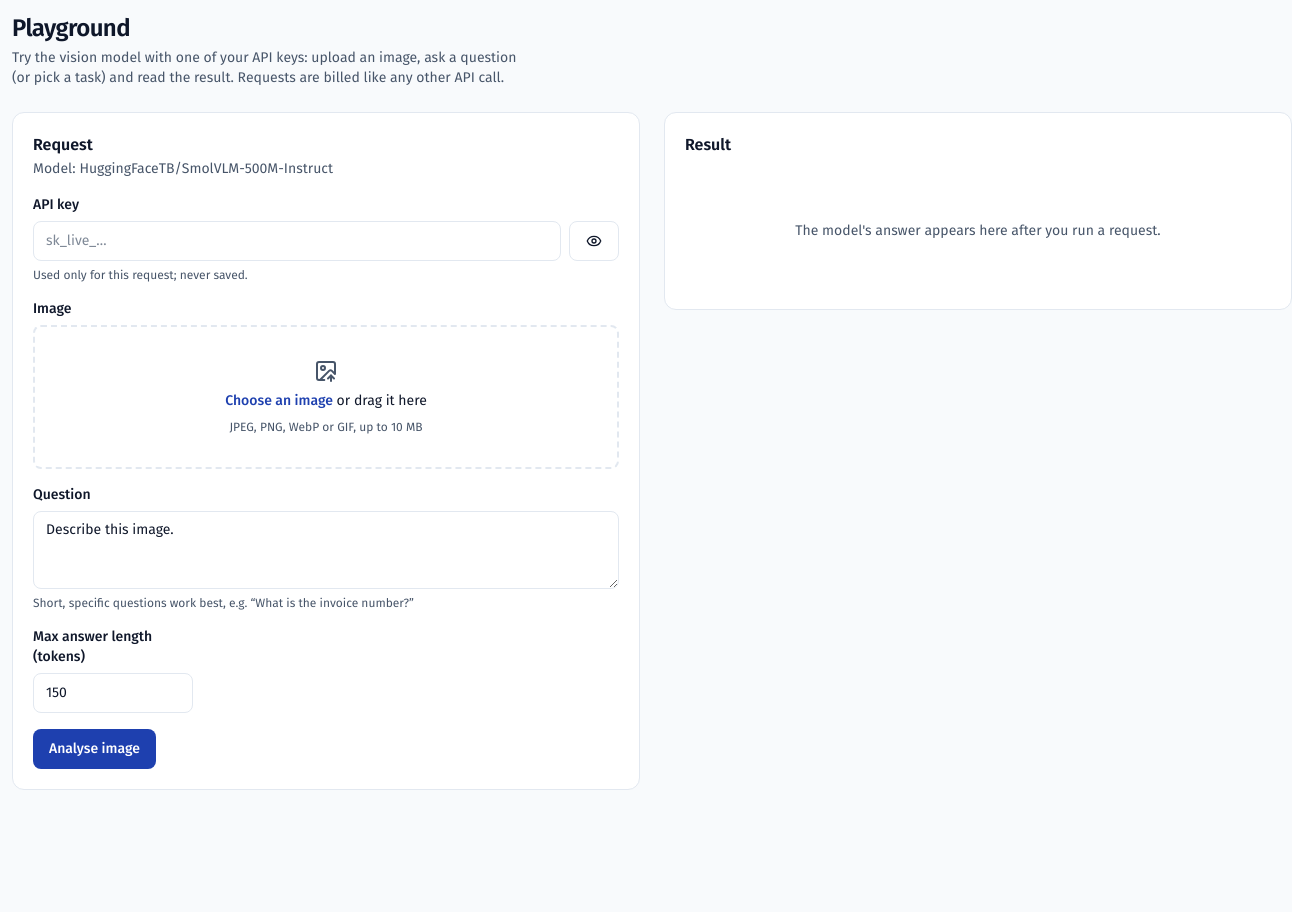
Playground › validates before sending anything
Expected: the text box labelled "Question" is shown, top-left (33, 511), bottom-right (619, 589)
Click the button "Analyse image": (94, 749) top-left (33, 729), bottom-right (156, 769)
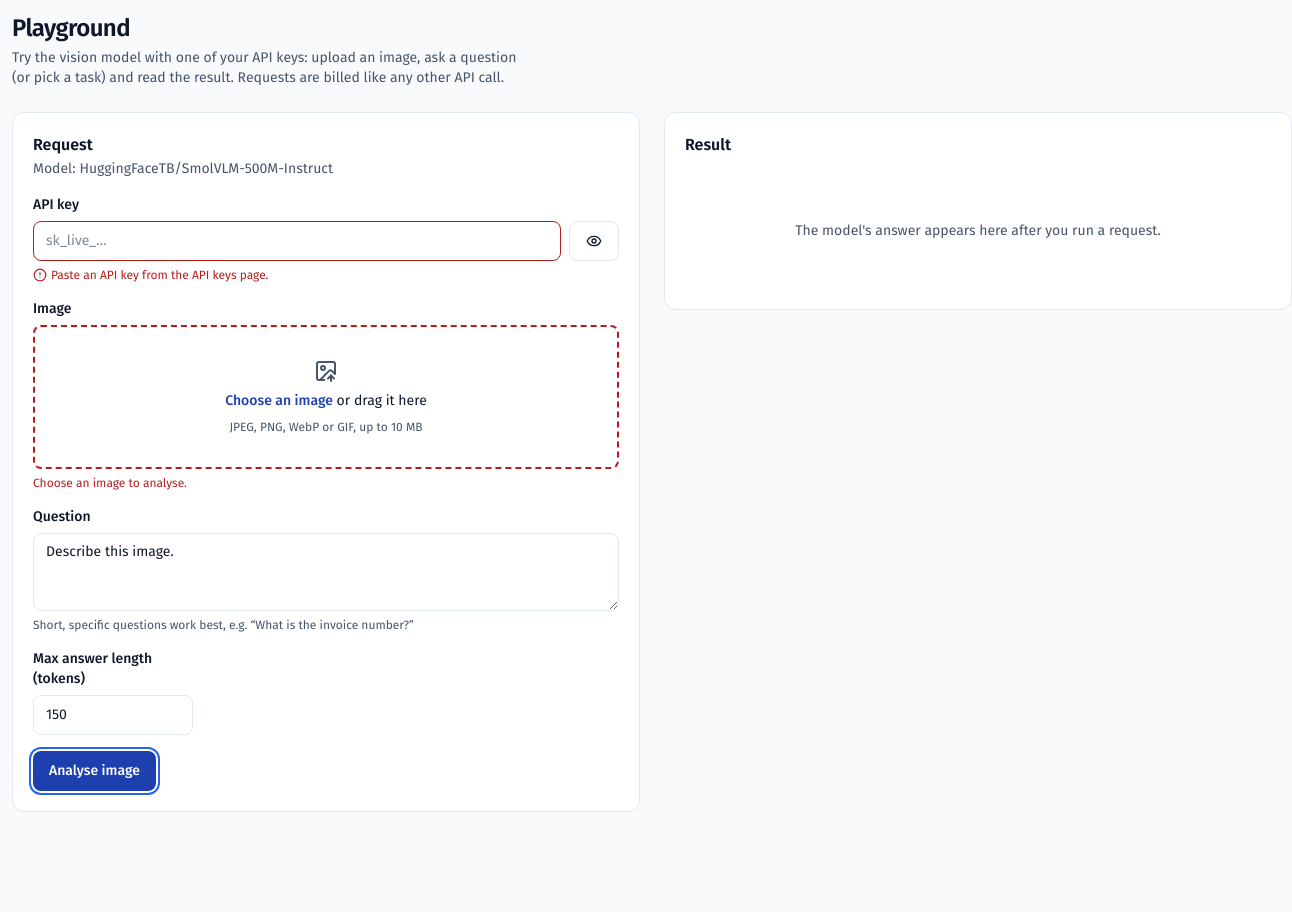
Now the text "Paste an API key from the API keys page." is shown, box top-left (33, 268), bottom-right (268, 282)
Now the text "Choose an image to analyse." is shown, box top-left (33, 476), bottom-right (187, 490)
